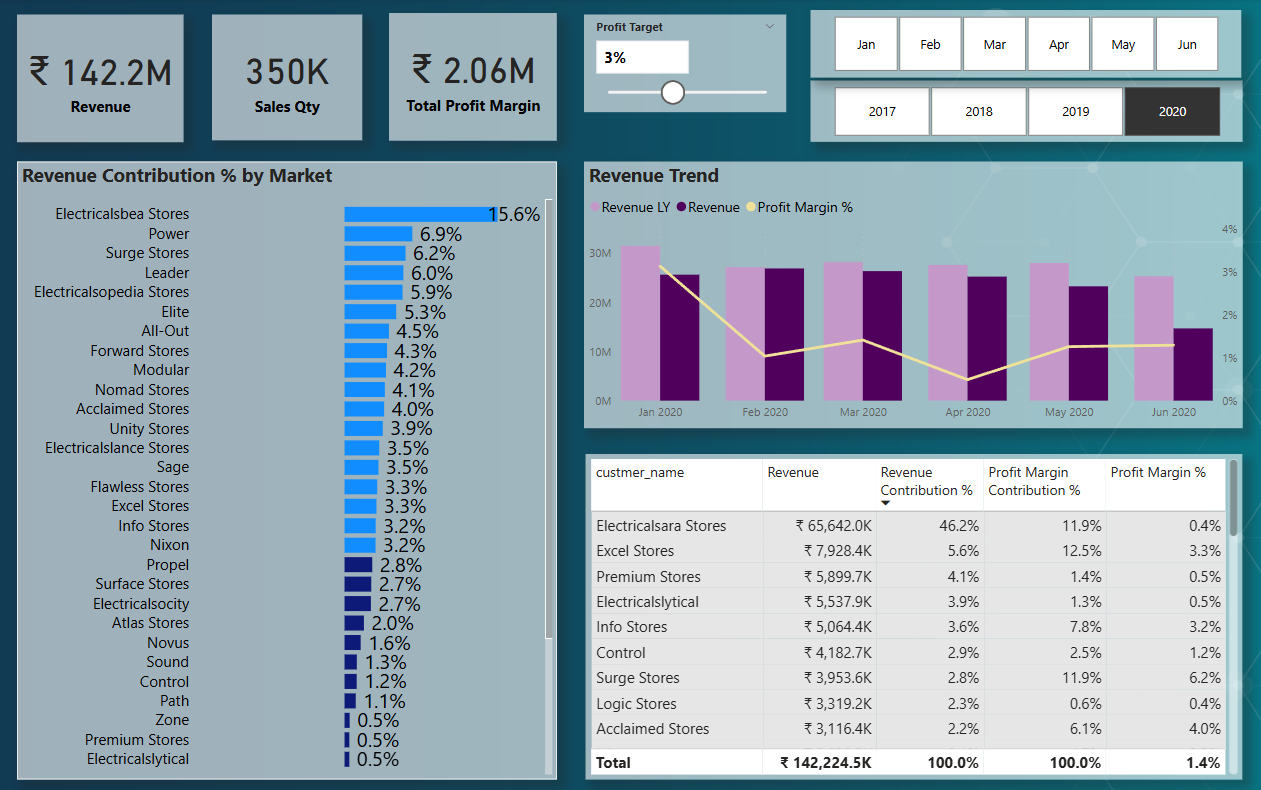

What the dashboard file says about the page in this screenshot:
{"tool":"powerbi","page":{"name":"Performance Insights ","canvas":[1350,850],"ordinal":2},"visuals":[{"type":"card","fields":{"Values":["BaseMeasures.Sales Qty"]},"box":[230,17.6,159.7,134.1],"z":0},{"type":"slicer","fields":{"Values":["sales date.year"]},"box":[867.2,87.8,459.9,65.5],"z":2000},{"type":"slicer","fields":{"Values":["sales date.cy_date"]},"box":[867.2,12.8,458.3,71.9],"z":3000},{"type":"tableEx","title":"Top 5 Customers","fields":{"Values":["sales customers.custmer_name","BaseMeasures.Revenue","BaseMeasures.Revenue Contribution %","BaseMeasures.Profit Margin Contribution %","BaseMeasures.Profit Margin %"]},"box":[627.6,485.5,699.5,346.6],"z":4000},{"type":"card","fields":{"Values":["BaseMeasures.Revenue"]},"box":[22.4,17.6,177.3,135.7],"z":6000},{"type":"card","fields":{"Values":["BaseMeasures.Total Profit Margin"]},"box":[418.4,16,178.9,135.7],"z":7000},{"type":"barChart","title":"Revenue Contribution % by Market","fields":{"Category":["sales markets.zone","sales customers.custmer_name","sales markets.markets_name","sales products.product_code"],"Y":["BaseMeasures.Profit Margin %"]},"box":[22.4,174.1,574.9,658],"z":7001},{"type":"lineClusteredColumnComboChart","title":"Revenue Trend","fields":{"Category":["sales date.cy_date"],"Y":["BaseMeasures.Revenue LY","BaseMeasures.Revenue"],"Y2":["BaseMeasures.Profit Margin %"]},"box":[626,174.1,701.1,284.3],"z":7002},{"type":"slicer","fields":{"Values":["Profit Target.Profit Target"]},"box":[626,17.6,215.6,103.8],"z":7004}]}

Visuals, with their boxes in screenshot pixels (x1, y1, x2, y2), scaled from the page's 1350x850 canvas onto the 1261x790 screenshot:
card - BaseMeasures.Sales Qty: crop(215, 16, 364, 141)
slicer - sales date.year: crop(810, 82, 1240, 142)
slicer - sales date.cy_date: crop(810, 12, 1238, 79)
"Top 5 Customers" tableEx: crop(586, 451, 1240, 773)
card - BaseMeasures.Revenue: crop(21, 16, 187, 142)
card - BaseMeasures.Total Profit Margin: crop(391, 15, 558, 141)
"Revenue Contribution % by Market" barChart: crop(21, 162, 558, 773)
"Revenue Trend" lineClusteredColumnComboChart: crop(585, 162, 1240, 426)
slicer - Profit Target.Profit Target: crop(585, 16, 786, 113)
